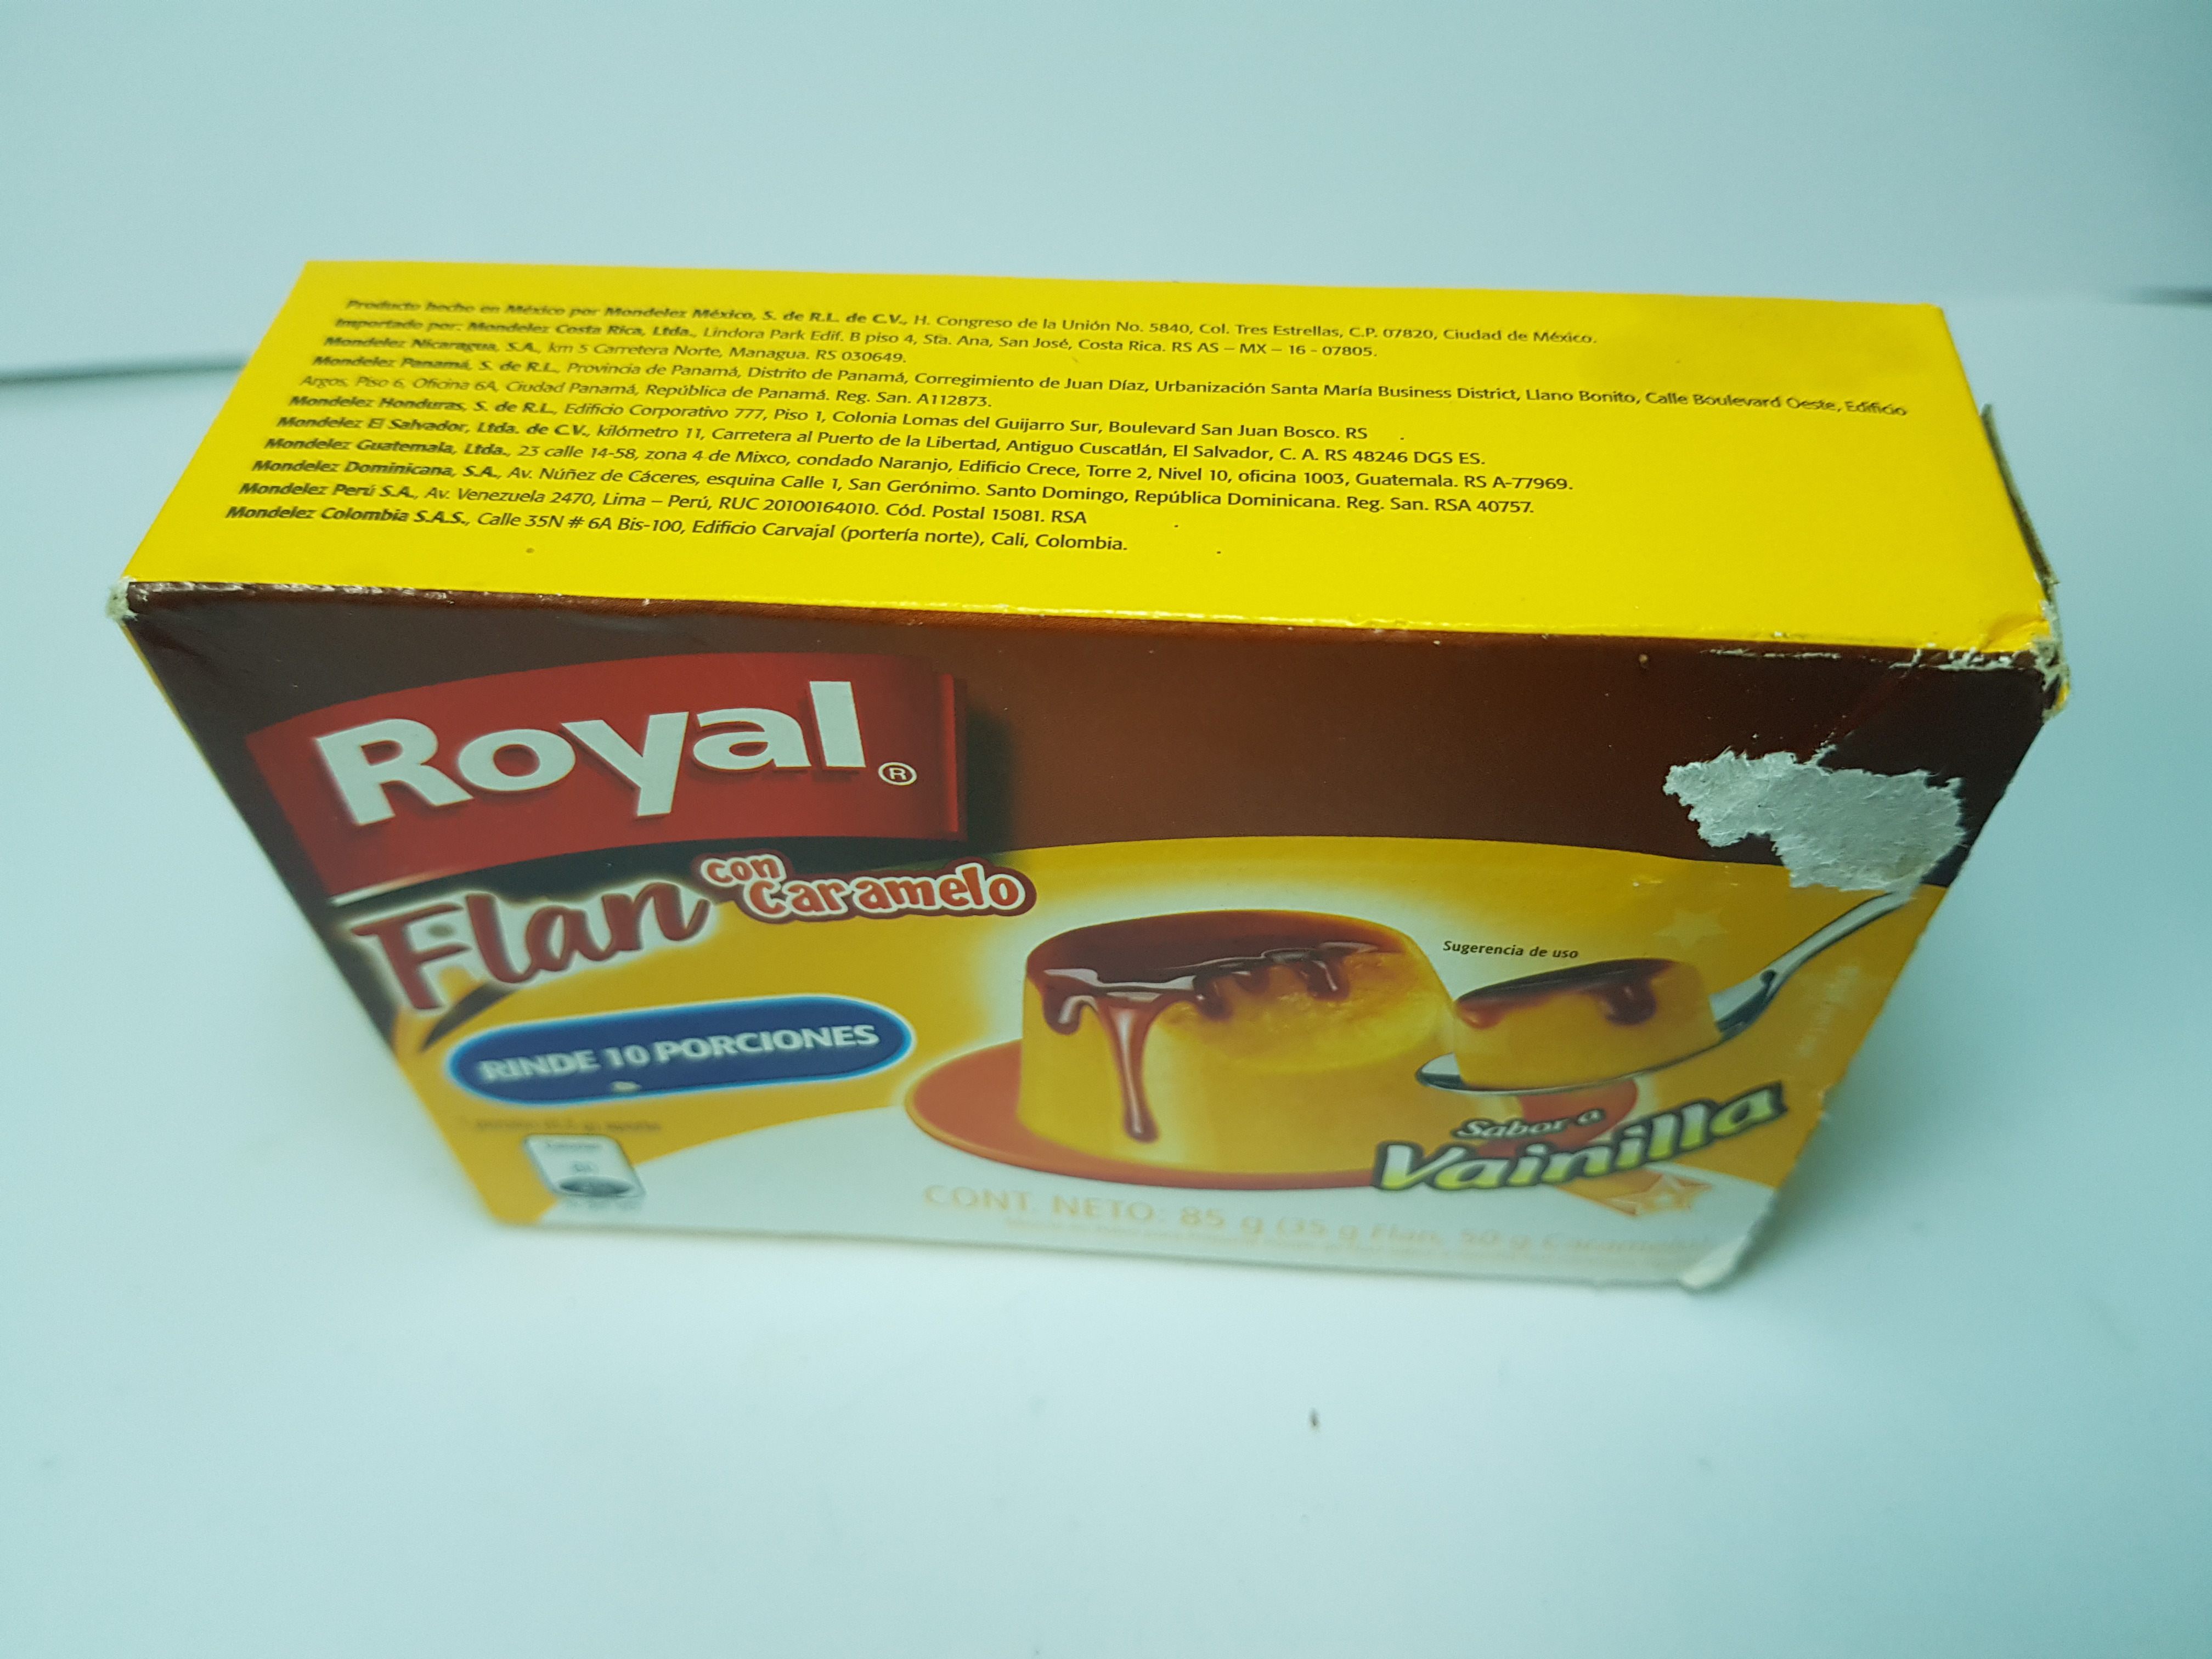flan: (73, 234, 2094, 1323)
